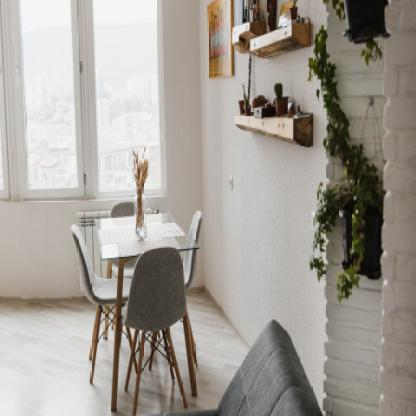chair: (114, 252, 194, 408), (58, 227, 127, 379), (106, 200, 148, 339), (178, 210, 212, 286)
table: (90, 212, 199, 409)
